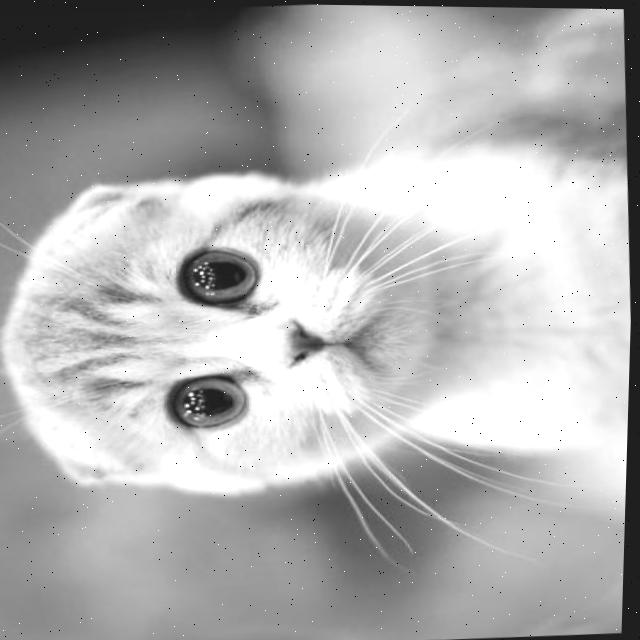Scottish Fold: (0, 46, 639, 516)
